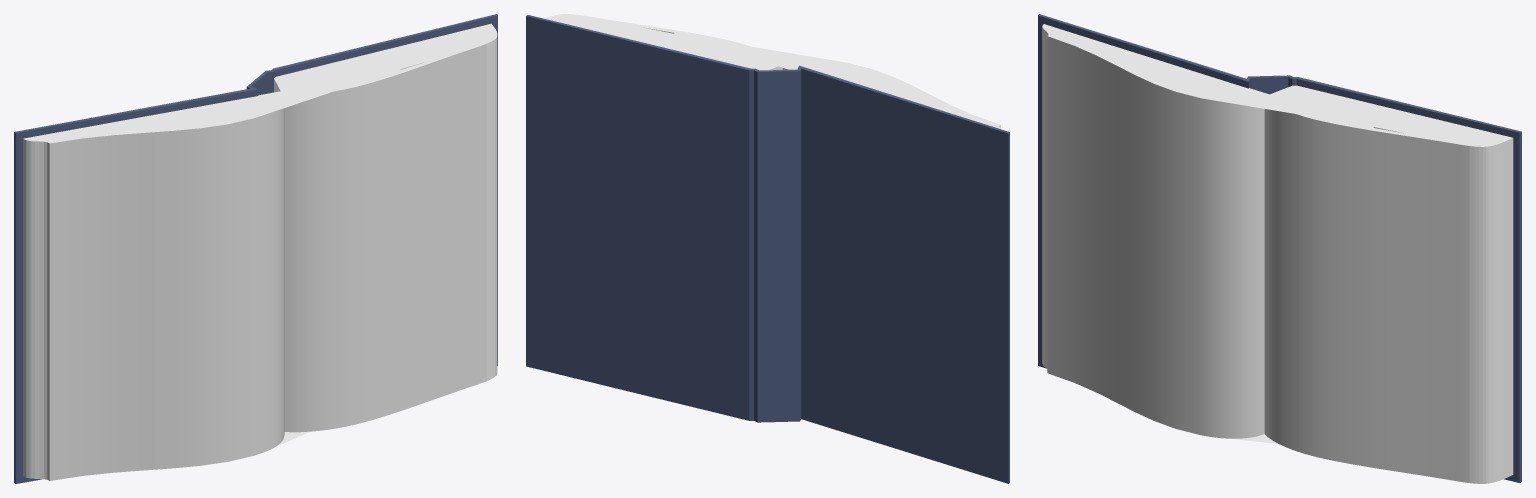
File: opened_book.fbx
The picture shows the model from 3 angles, left to right: view 1: azimuth 30°, elevation 25°; view 2: azimuth 150°, elevation 25°; view 3: azimuth 330°, elevation 25°; orthographic projection.
Parts seen in each view (by area): view 1: BOOK_OPENED.003, BOOK_OPENED, BOOK_OPENED.002, BOOK_OPENED.001; view 2: BOOK_OPENED.001, BOOK_OPENED.002; view 3: BOOK_OPENED.003, BOOK_OPENED, BOOK_OPENED.002, BOOK_OPENED.001.
Boxes of the visible parts, x1,y1,x2,y2 form: BOOK_OPENED.003: (49, 108, 284, 480); BOOK_OPENED: (284, 44, 486, 432); BOOK_OPENED.002: (23, 23, 497, 480); BOOK_OPENED.001: (14, 14, 497, 483); BOOK_OPENED.001: (526, 15, 1009, 483); BOOK_OPENED.002: (545, 14, 1000, 128); BOOK_OPENED.003: (1047, 36, 1264, 438); BOOK_OPENED: (1264, 109, 1469, 482); BOOK_OPENED.002: (1042, 24, 1513, 483); BOOK_OPENED.001: (1038, 14, 1521, 482).
Bounding box in the file's own units: 10000 × 6940 × 1408.
